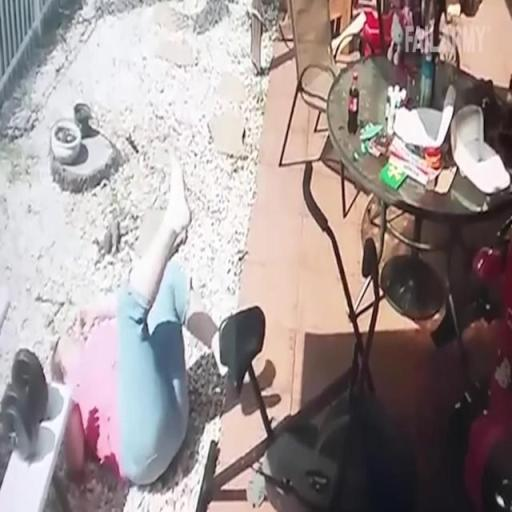Fall: (51, 153, 235, 484)
